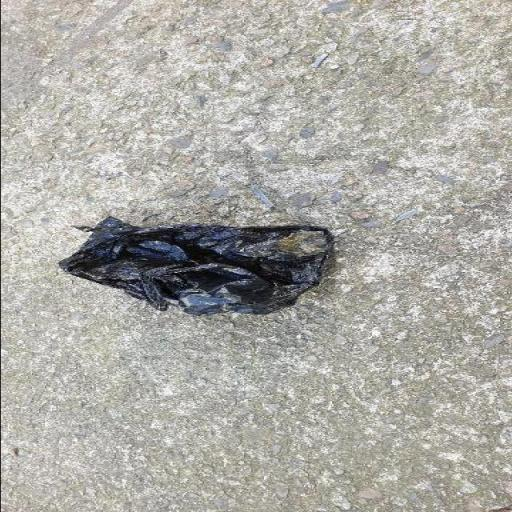plastic-bag: (53, 214, 338, 318)
